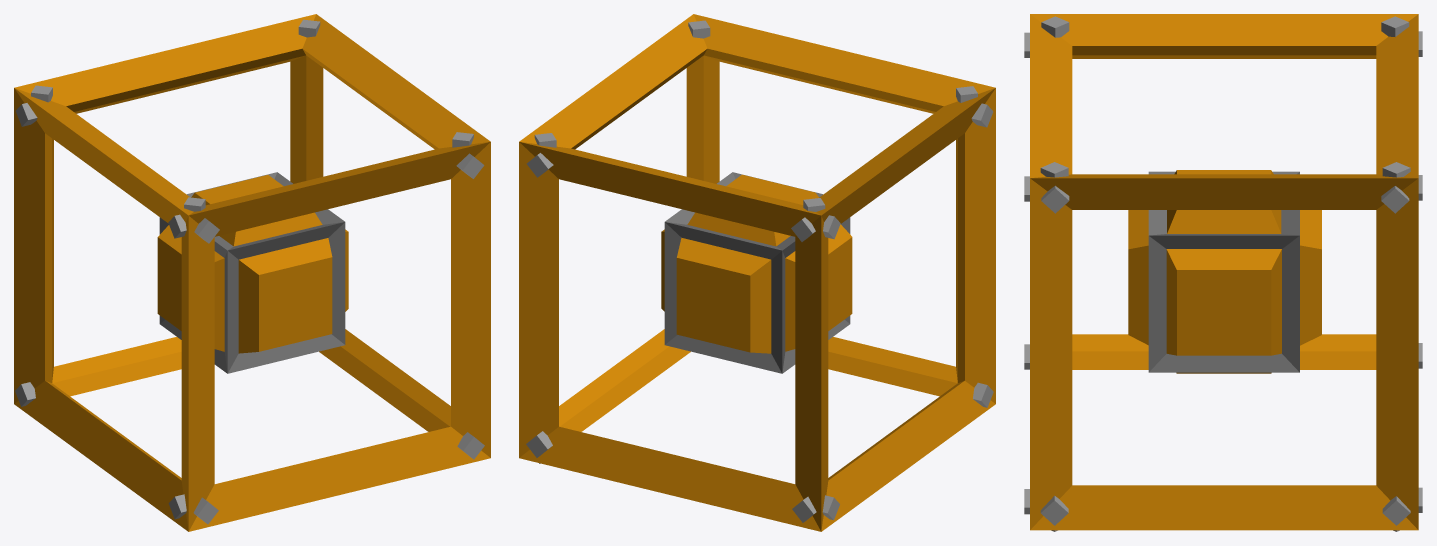
Rendered from Item_Powerup_Fantasy.fbx.
3 views of the same model, side by side, from view 1: azimuth 30°, elevation 25°; view 2: azimuth 150°, elevation 25°; view 3: azimuth 270°, elevation 25° (orthographic). The views are drawn at different scales.
Parts seen in each view (by area): view 1: Item Powerup Fantasy; view 2: Item Powerup Fantasy; view 3: Item Powerup Fantasy.
Boxes of the visible parts, x1,y1,x2,y2 form: Item Powerup Fantasy: (14, 14, 490, 531); Item Powerup Fantasy: (519, 14, 995, 531); Item Powerup Fantasy: (1024, 14, 1422, 531).
Size of the model in its own units: 242 by 242 by 244.
